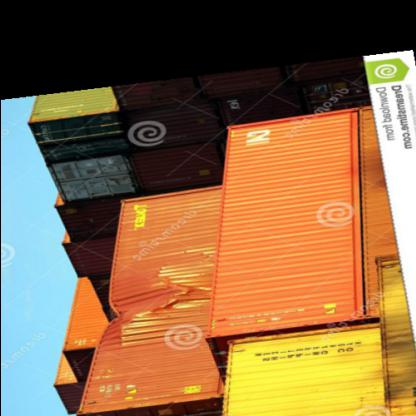Damage: (96, 274, 202, 344)
